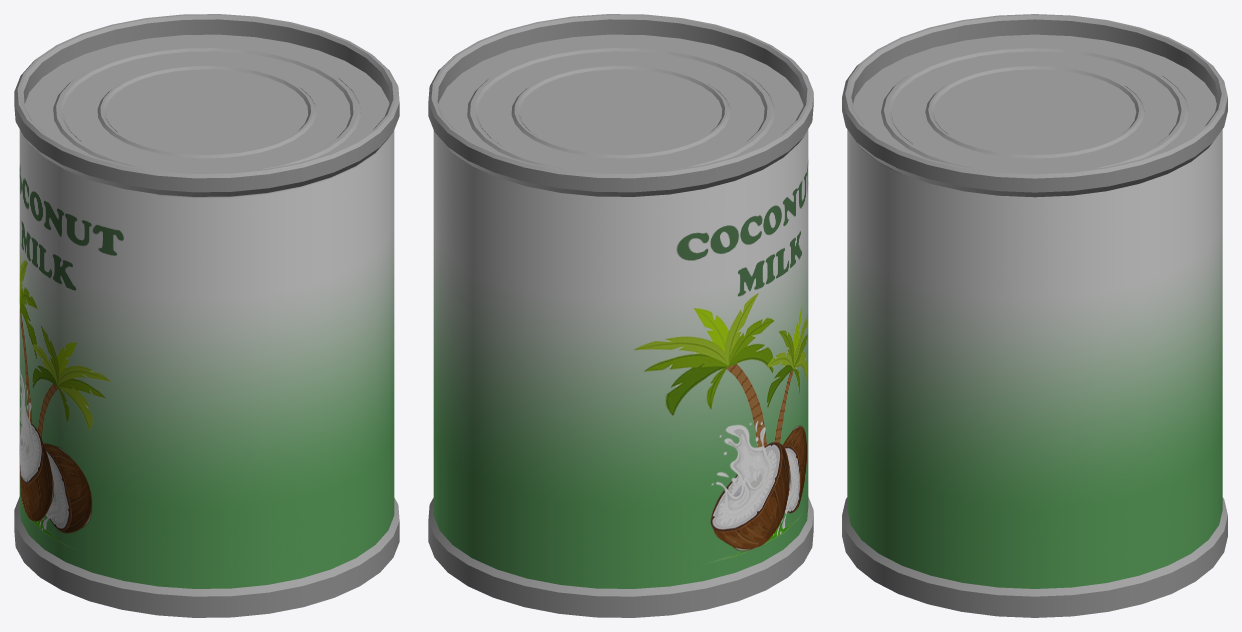
File: coconutmilk.fbx
3 renders of one model, left to right at view 1: azimuth 30°, elevation 25°; view 2: azimuth 150°, elevation 25°; view 3: azimuth 270°, elevation 25°, orthographic.
Parts seen in each view (by area): view 1: coconutmilk; view 2: coconutmilk; view 3: coconutmilk.
Boxes of the visible parts, left/top/right/bottom form: coconutmilk: left=14, top=14, right=399, bottom=617; coconutmilk: left=428, top=14, right=813, bottom=617; coconutmilk: left=842, top=14, right=1227, bottom=617.
Size of the model in its own units: 200 by 253 by 200.
2 materials, 1 textured.
